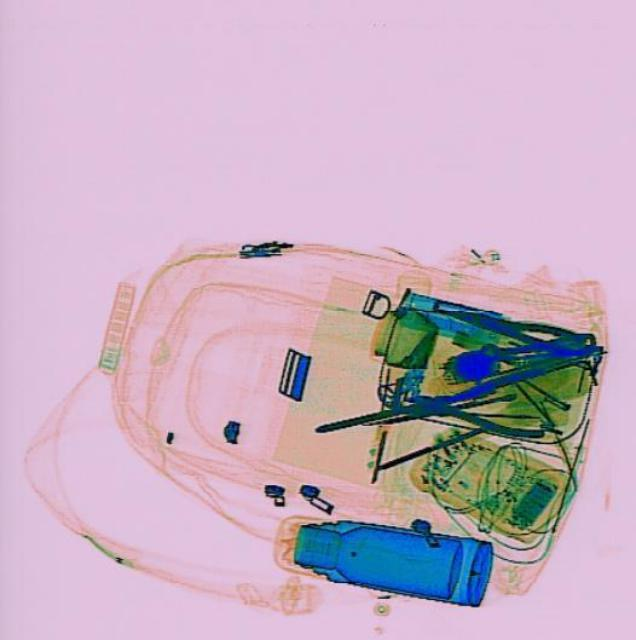Pliers: (378, 365, 543, 441), (430, 294, 595, 360)
